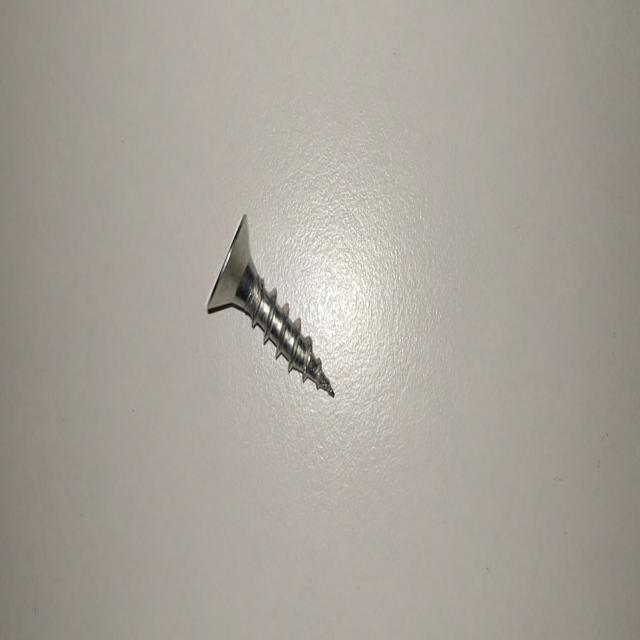Screw: (206, 214, 334, 396)
